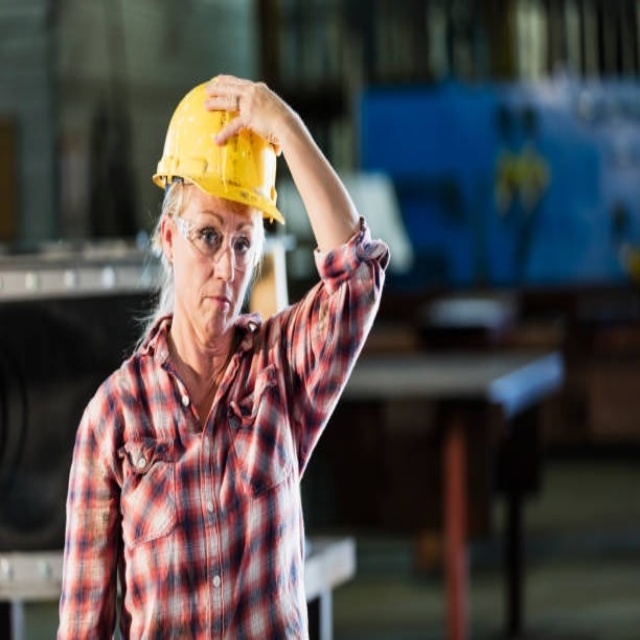Gafas: (173, 212, 265, 271)
Sin_guantes: (200, 73, 292, 153)
Sin_mascara: (196, 282, 236, 329)
